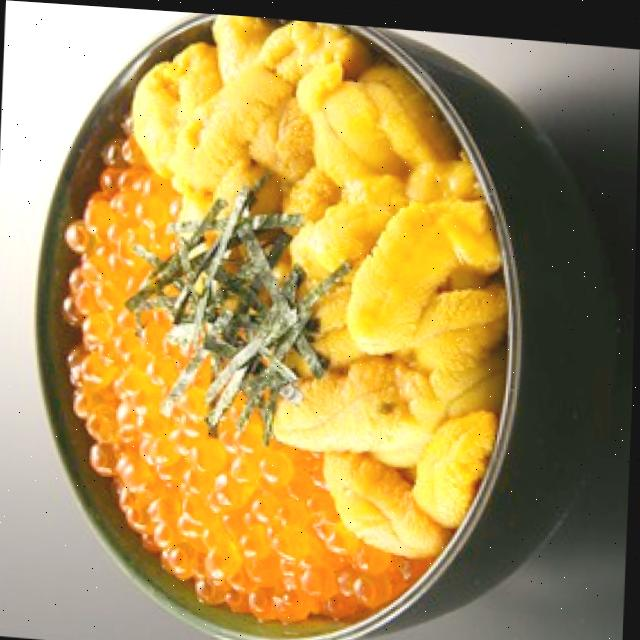刺身生食: (12, 1, 617, 640)
